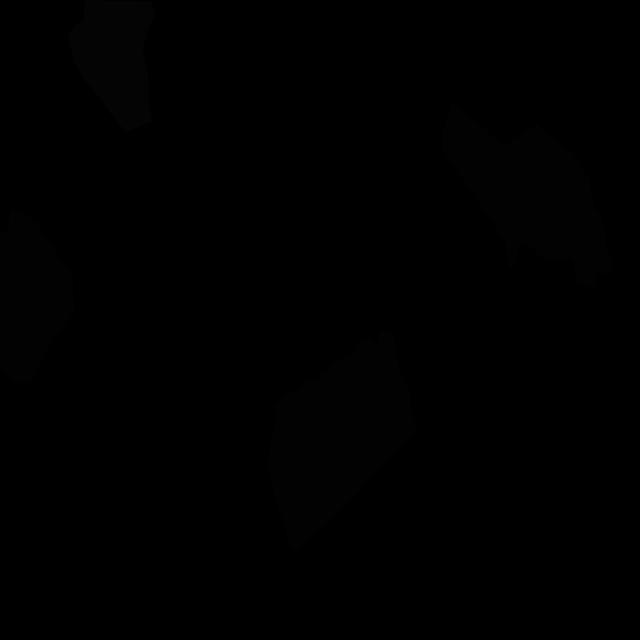cardboard: (267, 331, 418, 551), (442, 104, 613, 287), (0, 209, 76, 383)
soft_plastic: (68, 0, 155, 132)
